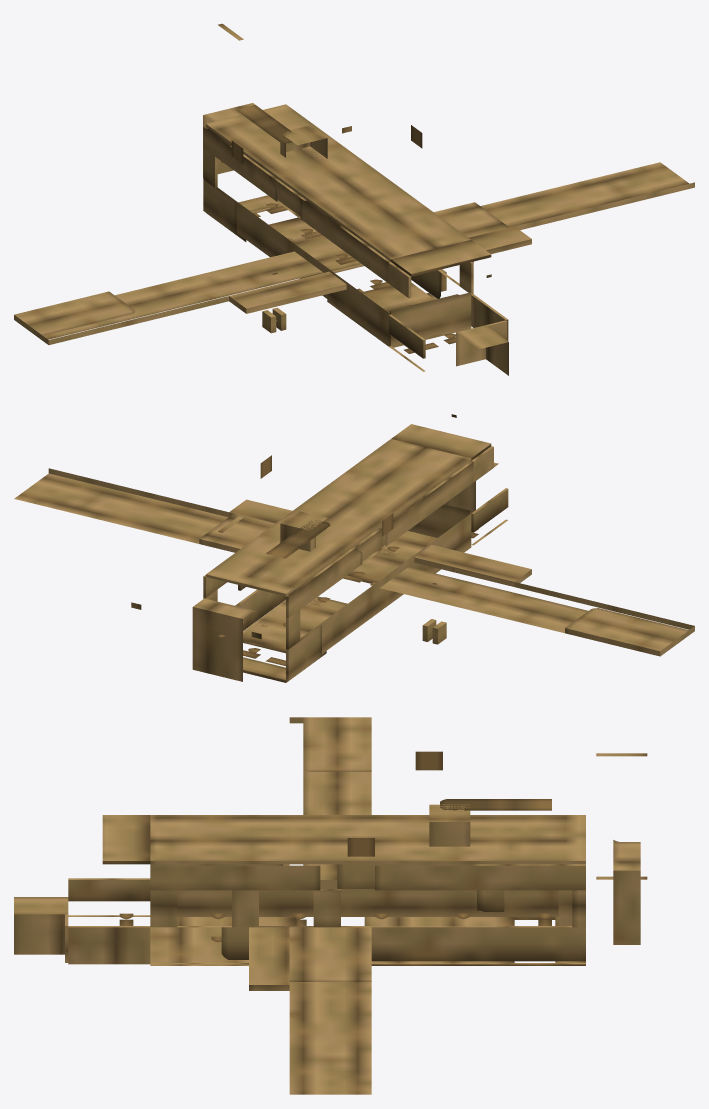
The model's file is e3sentry_plane.obj.
3 renders of one model, top to bottom at view 1: azimuth 30°, elevation 25°; view 2: azimuth 150°, elevation 25°; view 3: azimuth 270°, elevation 25°, orthographic. The views are drawn at different scales.
Parts seen in each view (by area): view 1: cube5, cube2, cube, cube14, cube15, cube4, cube31, cube3, cube30, cube23, cube78, cube1 (+5 smaller); view 2: cube5, cube2, cube, cube4, cube14, cube15, cube36, cube3, cube30, cube78, cube31, cube6 (+6 smaller); view 3: cube5, cube, cube7, cube6, cube14, cube2, cube4, cube25, cube23, cube36, cube1, cube30 (+8 smaller).
Boxes of the visible parts, left/top/right/bottom form: cube5: left=206, top=104, right=470, bottom=261; cube2: left=14, top=251, right=322, bottom=344; cube: left=434, top=162, right=694, bottom=237; cube14: left=203, top=179, right=390, bottom=345; cube15: left=203, top=126, right=390, bottom=283; cube4: left=209, top=195, right=471, bottom=347; cube31: left=389, top=292, right=471, bottom=345; cube3: left=229, top=271, right=346, bottom=313; cube30: left=391, top=240, right=491, bottom=276; cube23: left=456, top=325, right=508, bottom=375; cube78: left=231, top=105, right=422, bottom=163; cube1: left=469, top=226, right=531, bottom=254; cube5: left=206, top=439, right=471, bottom=596; cube2: left=380, top=557, right=694, bottom=656; cube: left=14, top=468, right=274, bottom=552; cube4: left=243, top=531, right=471, bottom=682; cube14: left=286, top=514, right=471, bottom=680; cube15: left=286, top=461, right=473, bottom=617; cube36: left=192, top=598, right=257, bottom=681; cube3: left=414, top=545, right=531, bottom=586; cube30: left=391, top=424, right=491, bottom=460; cube78: left=260, top=455, right=393, bottom=558; cube31: left=408, top=504, right=471, bottom=540; cube6: left=235, top=589, right=285, bottom=633; cube5: left=150, top=815, right=585, bottom=864; cube: left=289, top=927, right=371, bottom=1094; cube7: left=150, top=864, right=585, bottom=890; cube6: left=150, top=926, right=585, bottom=964; cube14: left=177, top=880, right=558, bottom=916; cube2: left=289, top=717, right=371, bottom=879; cube4: left=150, top=917, right=585, bottom=965; cube25: left=68, top=926, right=150, bottom=964; cube23: left=14, top=897, right=68, bottom=954; cube36: left=613, top=840, right=640, bottom=944; cube1: left=249, top=927, right=289, bottom=990; cube30: left=102, top=815, right=150, bottom=864.
Bounding box in the file's own units: 16.12 × 4.44 × 12.5.
